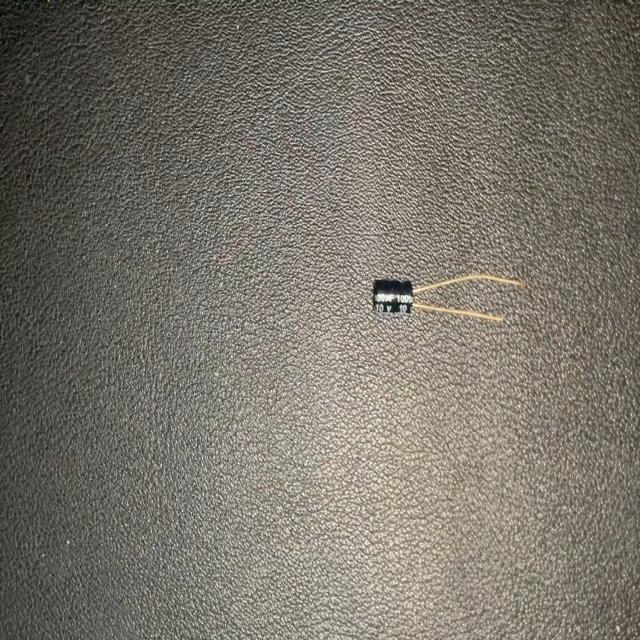capacitor: (370, 268, 523, 325)
